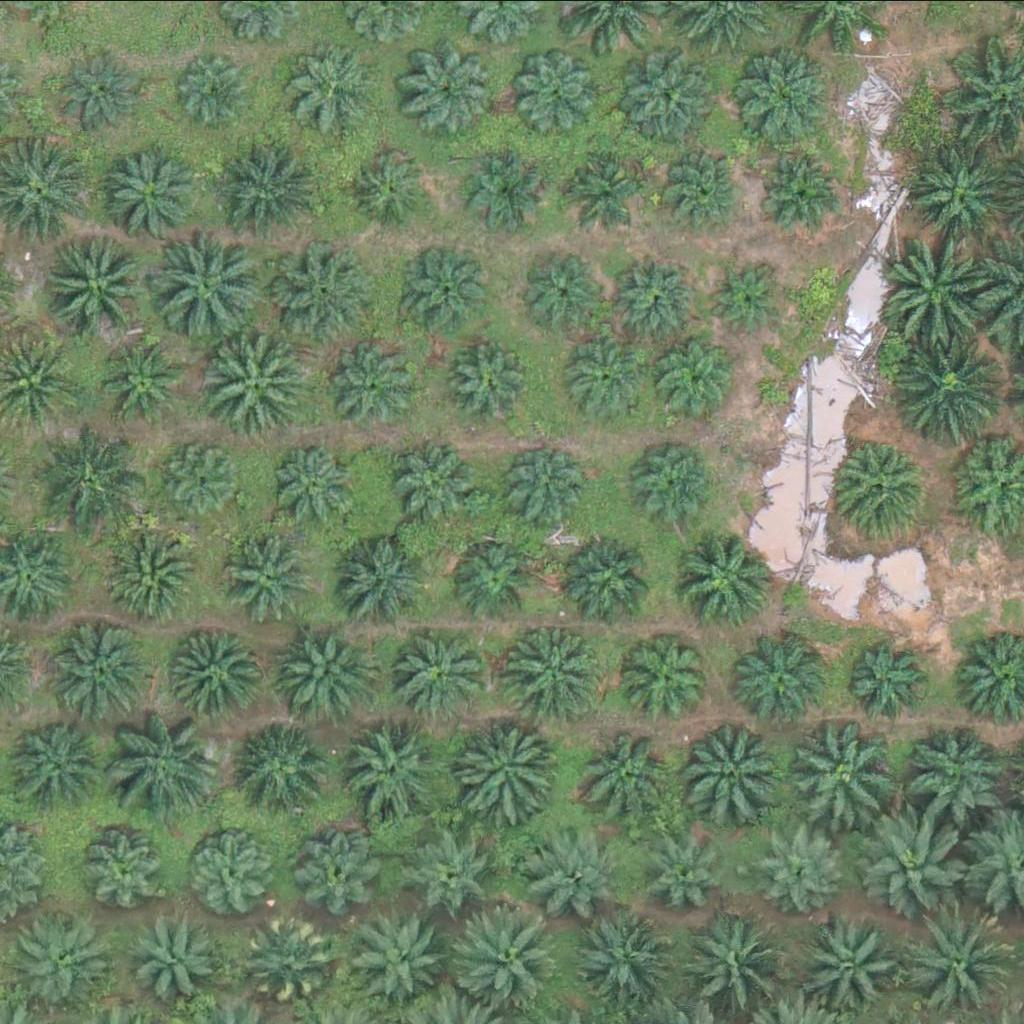Kelapa_Sawit: (685, 910, 799, 1023), (904, 909, 1017, 1022), (219, 138, 332, 251), (156, 229, 269, 342), (898, 332, 1011, 445), (112, 703, 225, 816), (787, 717, 900, 830), (28, 418, 141, 531), (862, 804, 975, 917), (672, 712, 786, 824), (41, 224, 155, 336), (200, 330, 313, 442), (881, 233, 994, 345), (454, 898, 567, 1010), (627, 46, 728, 146), (106, 142, 207, 242), (273, 245, 374, 345), (908, 145, 1009, 245), (102, 528, 203, 628), (331, 526, 432, 626), (563, 530, 664, 630), (679, 529, 780, 629), (507, 620, 608, 720), (235, 716, 336, 816), (347, 720, 448, 820), (463, 720, 564, 820), (801, 911, 902, 1011), (352, 905, 453, 1005), (11, 910, 112, 1010), (7, 712, 108, 812), (50, 618, 151, 718), (915, 722, 1015, 822), (733, 47, 833, 147), (835, 435, 935, 535), (169, 621, 269, 721), (274, 620, 374, 720), (735, 627, 835, 727), (579, 718, 679, 818), (523, 817, 623, 917), (579, 910, 679, 1010), (413, 46, 501, 134), (514, 46, 602, 134), (159, 432, 247, 520), (266, 443, 354, 531), (394, 439, 482, 527), (496, 446, 584, 534), (444, 344, 532, 432), (399, 246, 487, 334), (762, 147, 850, 235), (345, 145, 433, 233), (227, 530, 315, 618), (629, 630, 717, 718), (842, 638, 930, 726), (102, 338, 190, 426), (59, 47, 147, 135), (631, 440, 719, 527), (648, 330, 736, 417), (563, 334, 651, 421), (327, 343, 415, 430), (524, 249, 612, 336), (608, 248, 696, 335), (652, 150, 740, 237), (555, 142, 643, 229), (458, 150, 546, 237), (290, 44, 378, 131), (449, 535, 537, 622), (393, 626, 481, 713), (87, 823, 175, 910), (196, 826, 284, 913), (295, 823, 383, 910), (412, 826, 500, 913), (656, 826, 744, 913), (761, 821, 849, 908), (248, 916, 336, 1003), (133, 917, 221, 1004), (180, 52, 256, 127), (705, 259, 781, 334)
